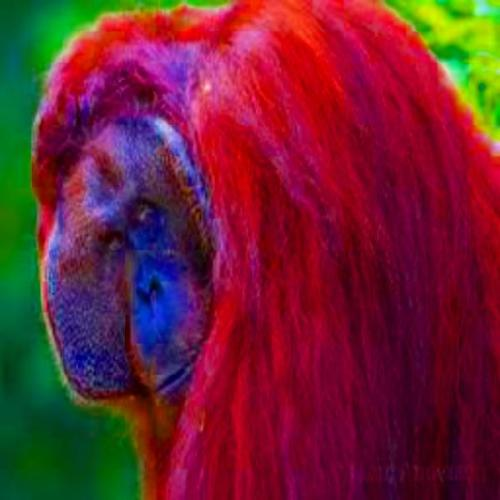orangutan-endangered: (28, 11, 475, 471)
